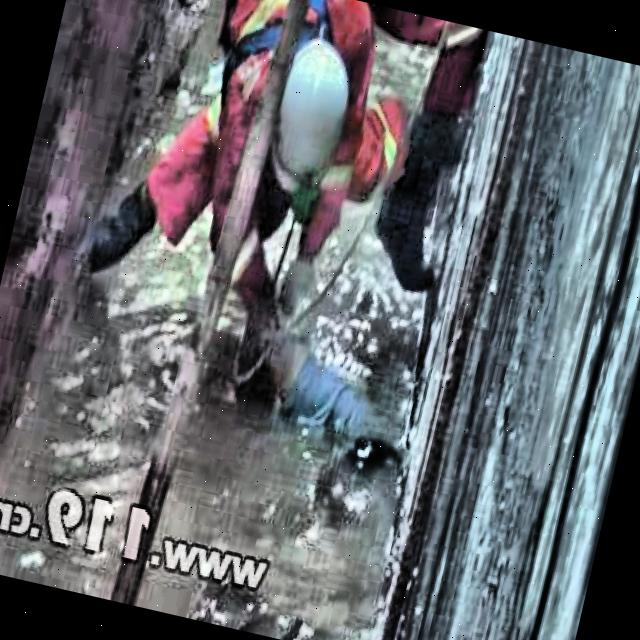helmet: (250, 27, 360, 202)
